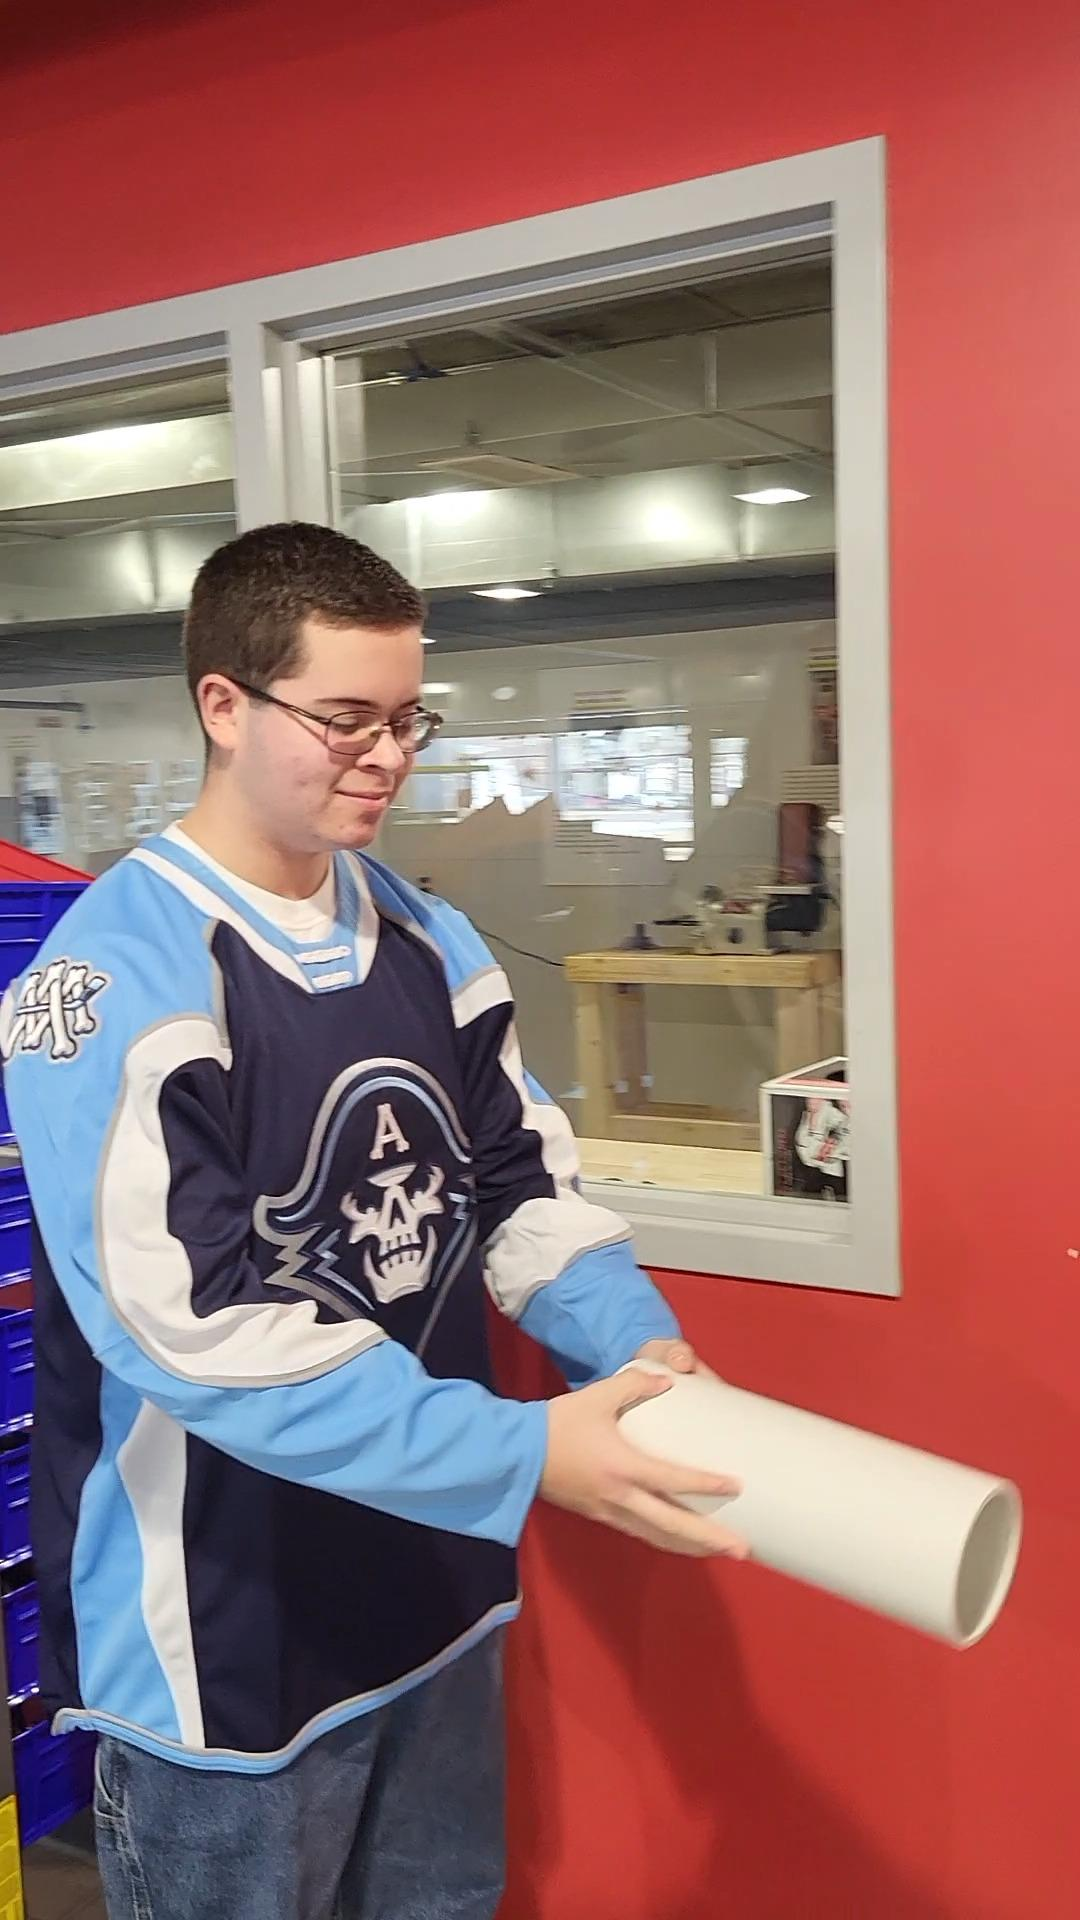coral: (583, 1335, 1030, 1656)
